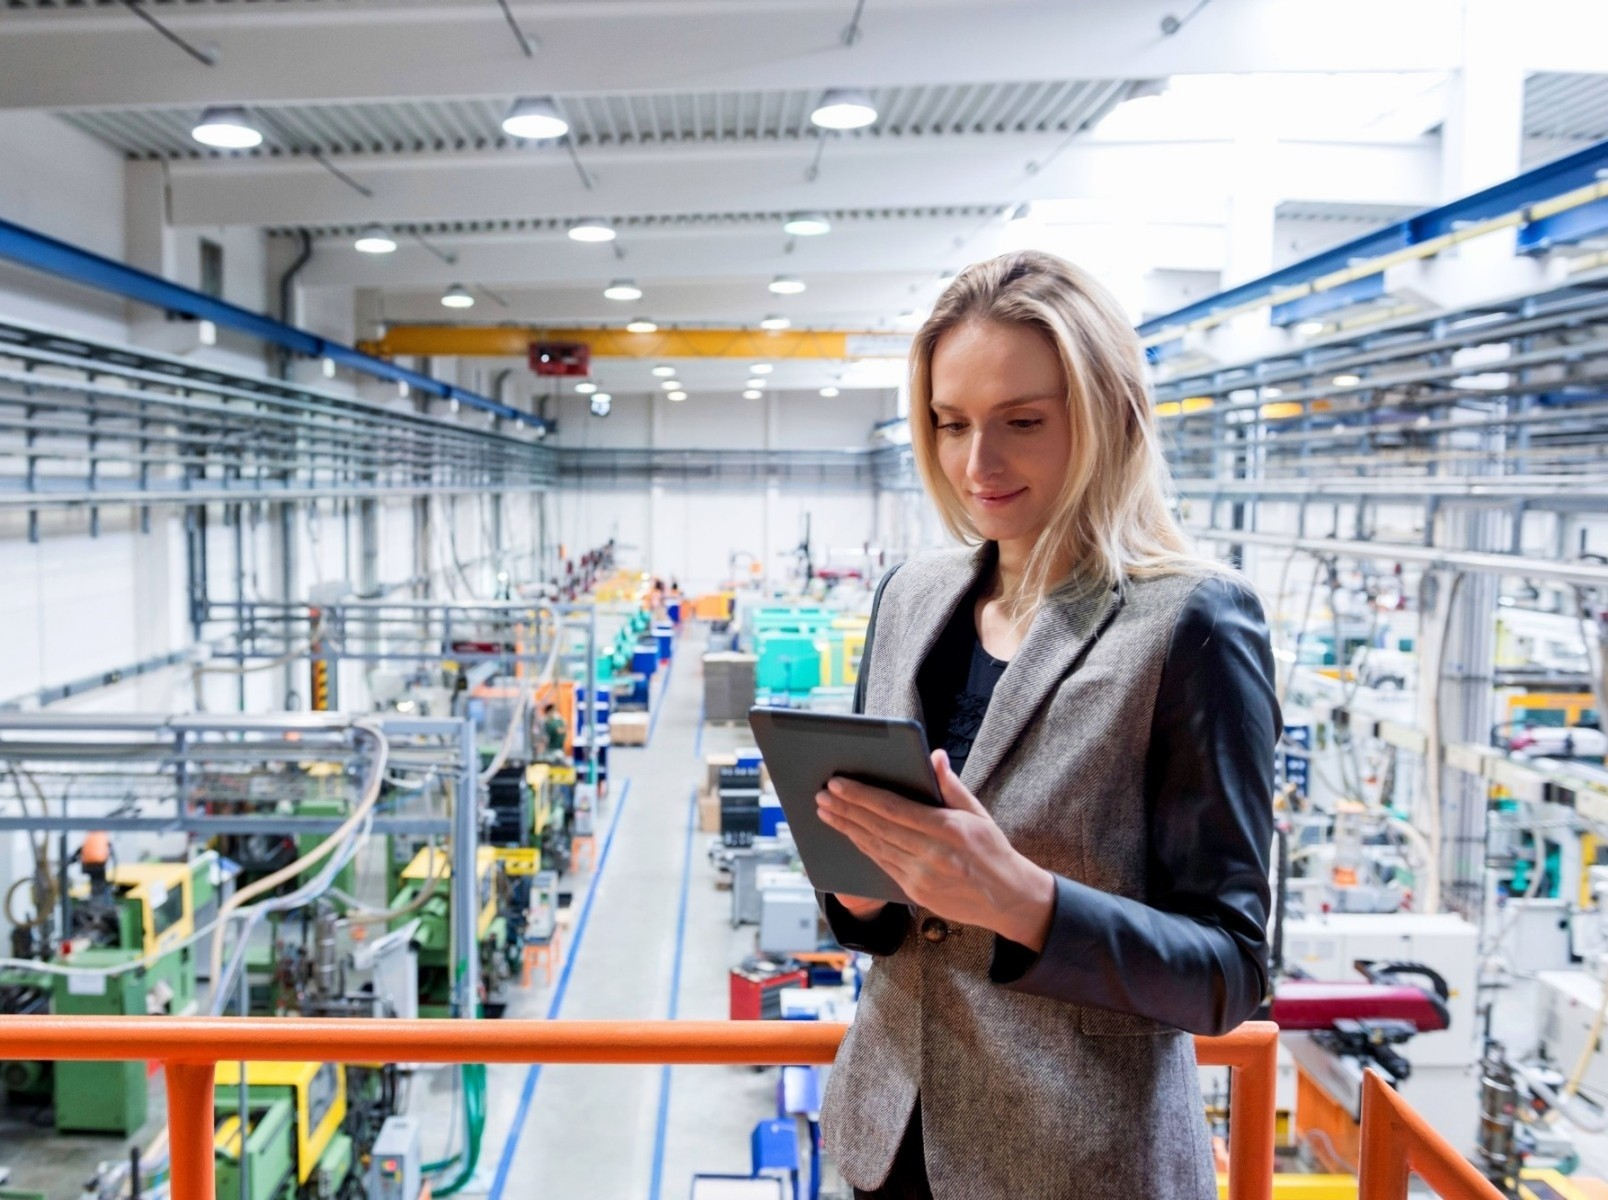face_no_mask: (909, 251, 1159, 538)
